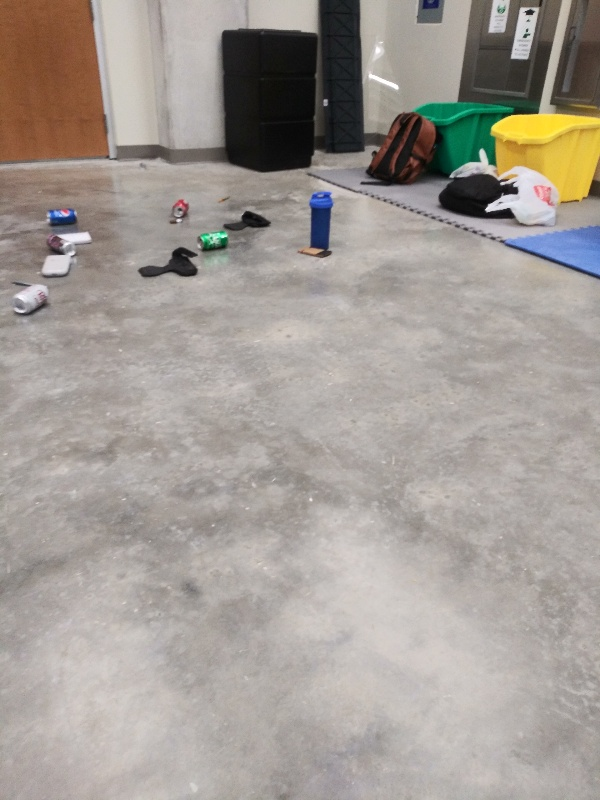can: (9, 281, 52, 317), (44, 230, 79, 256), (194, 228, 233, 251), (43, 205, 81, 226), (169, 197, 191, 218)
